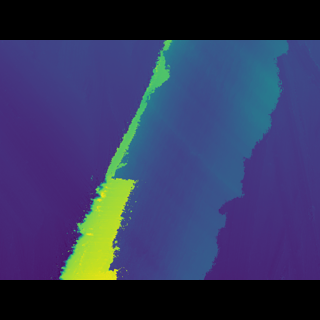Loch: (58, 70, 292, 250)
